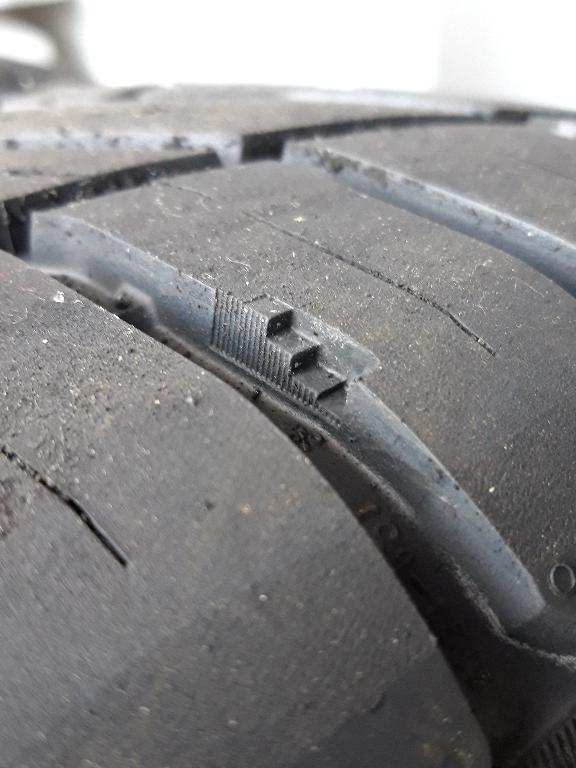temoin:75: (233, 289, 387, 436)
